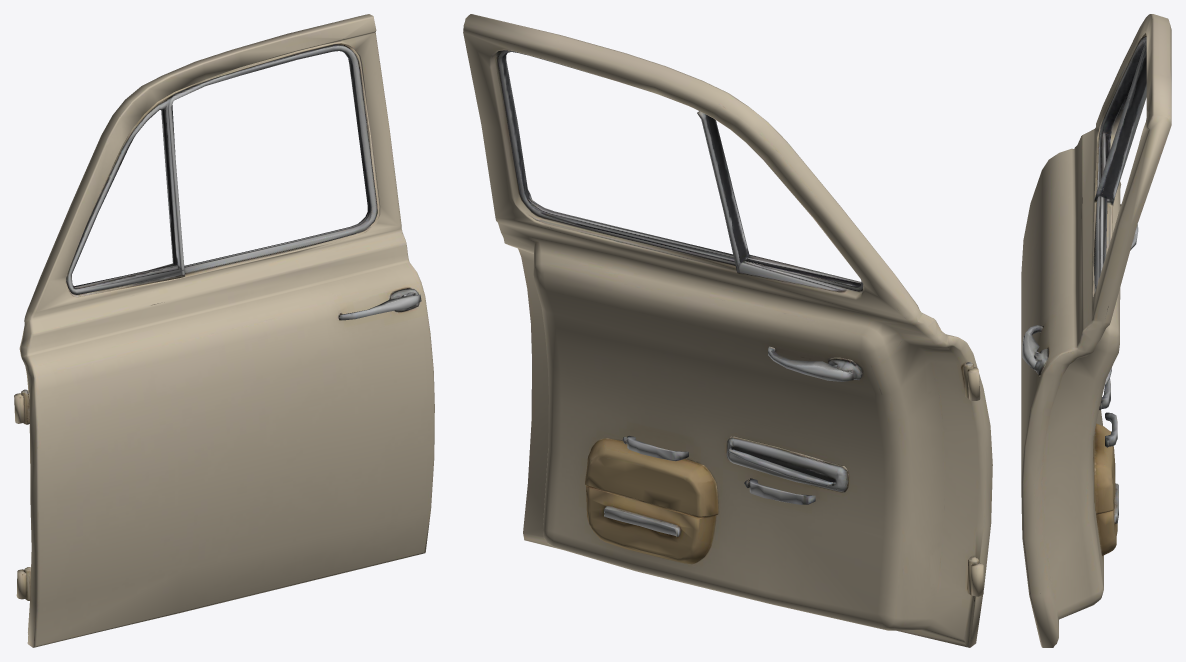
File: original_glb.glb
3 views of the same model, side by side, from view 1: azimuth 30°, elevation 25°; view 2: azimuth 150°, elevation 25°; view 3: azimuth 270°, elevation 25° (orthographic). The views are drawn at different scales.
Parts seen in each view (by area): view 1: right front door; view 2: right front door; view 3: right front door.
Boxes of the visible parts, x1,y1,x2,y2 form: right front door: [14, 14, 434, 647]; right front door: [463, 14, 992, 647]; right front door: [1021, 14, 1171, 647].
Size of the model in its own units: 0.8457 by 0.998 by 0.2559.
Materials: 1 (1 with a texture image).
